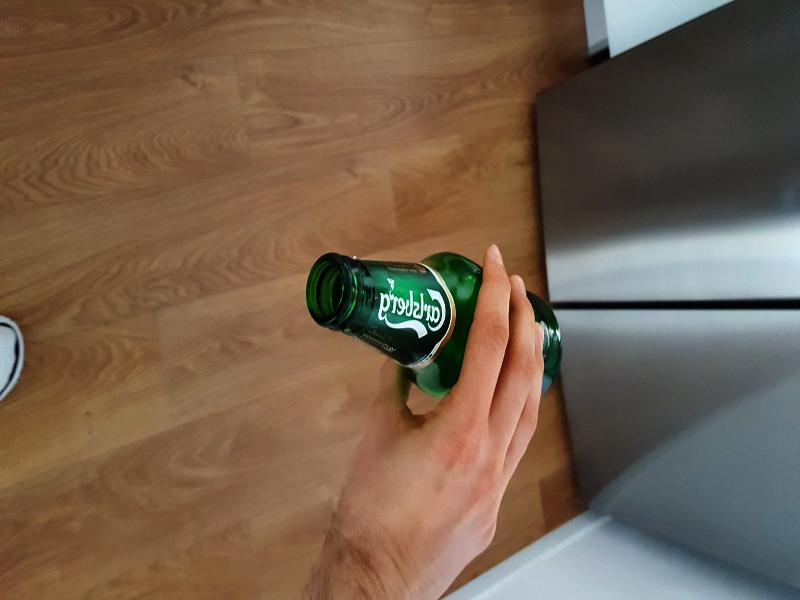Beer: (305, 253, 560, 395)
